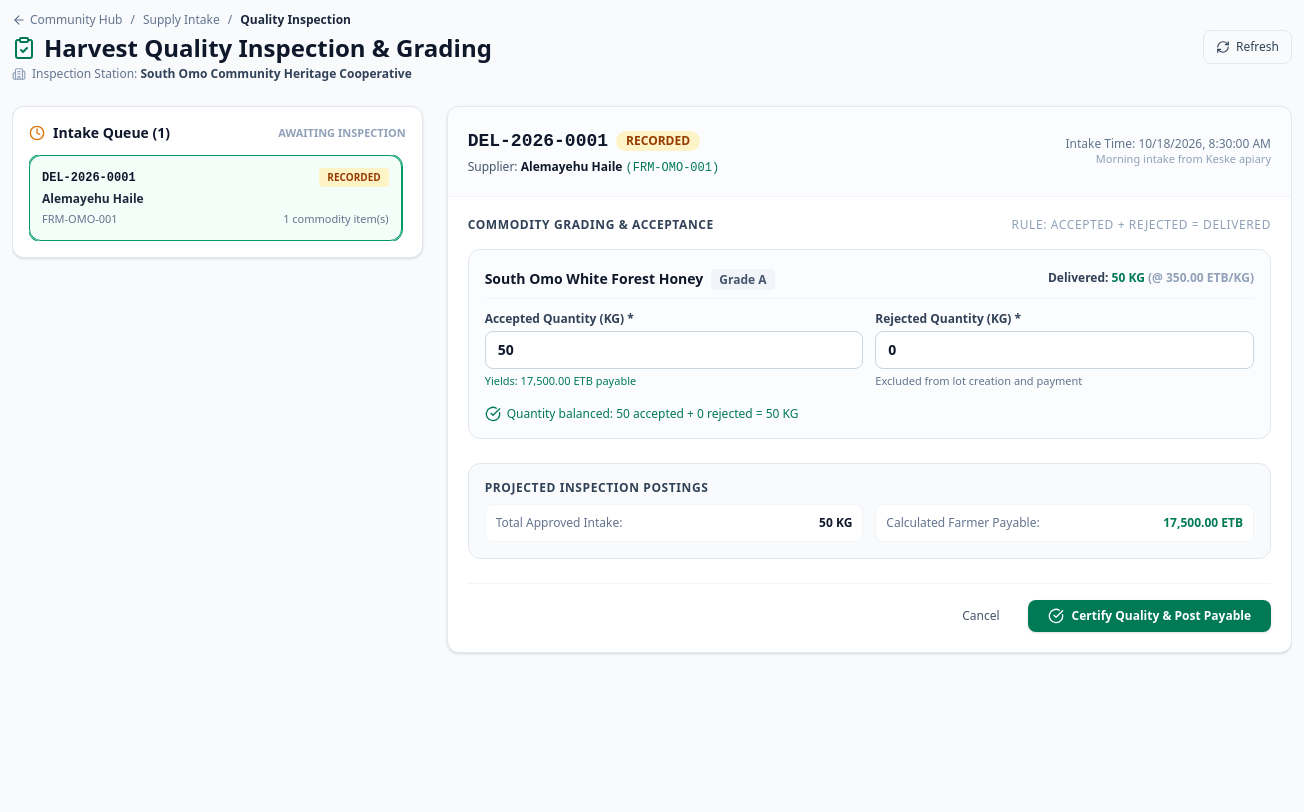
F-810: Supply Subsystem End-to-End Suite (Entry, Inspection Sums, Payment & Isolation) › 2. Inspection & Quality Grading Sums › requires explicit rejection reason if rejectedQty > 0
The width and height of the screenshot is (1304, 812).
Change accepted to 40, auto-balancing rejected to 10
Replace the text in the number field with test id "accepted-qty-input-0" with "40": (674, 350) 485,331 -> 863,369
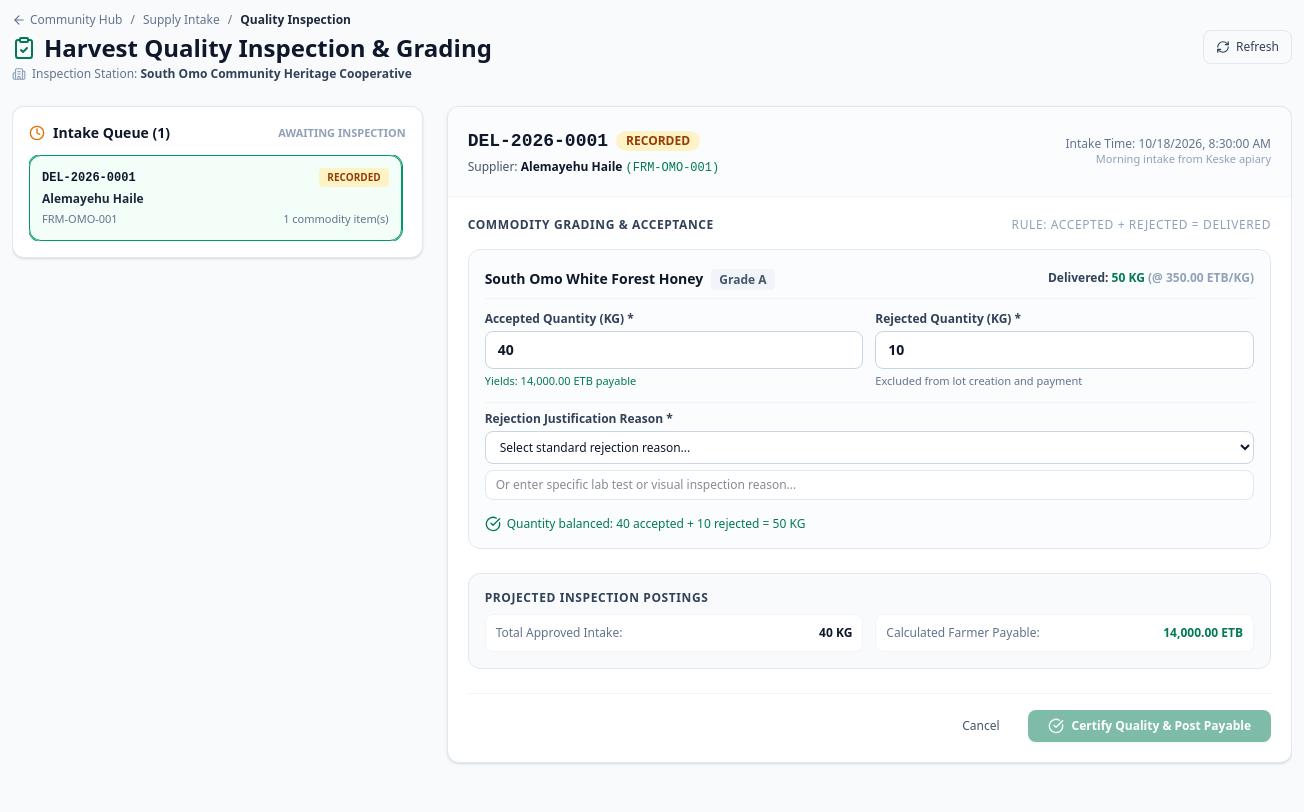
expect the dropdown with test id "rejection-reason-select-0" is shown: met
expect the button with test id "submit-inspection-button" is disabled: met, box 1028,710 -> 1271,742
With reason filled, button becomes active
Select "Moisture content exceeded acceptable limit (>20%)" in the dropdown with test id "rejection-reason-select-0": (869, 447) 485,430 -> 1254,464
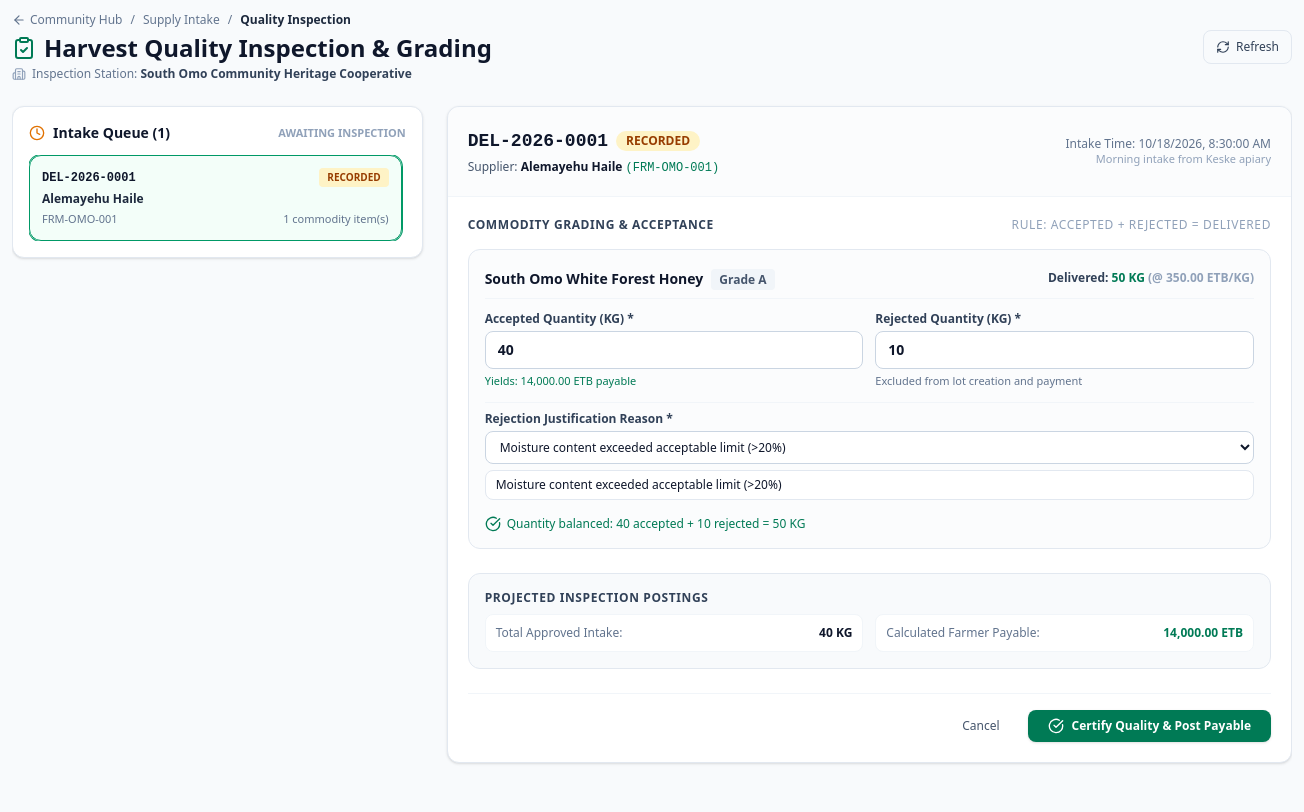
expect the button with test id "submit-inspection-button" is enabled: met, box 1028,710 -> 1271,742
